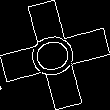O_E: (25, 28, 85, 82)
